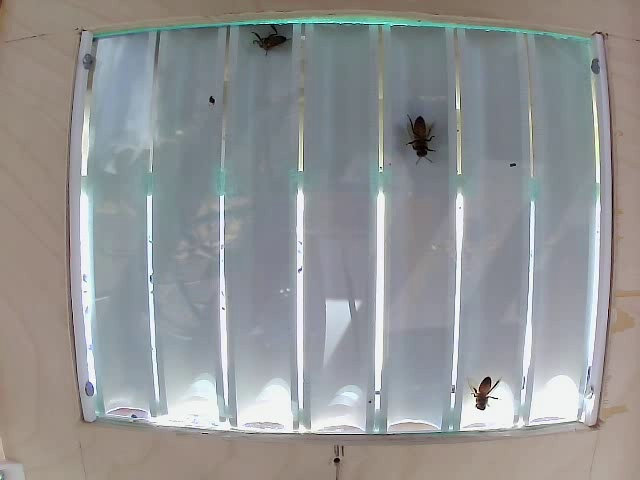bee: (399, 107, 444, 172), (472, 373, 518, 420), (250, 30, 297, 73)
